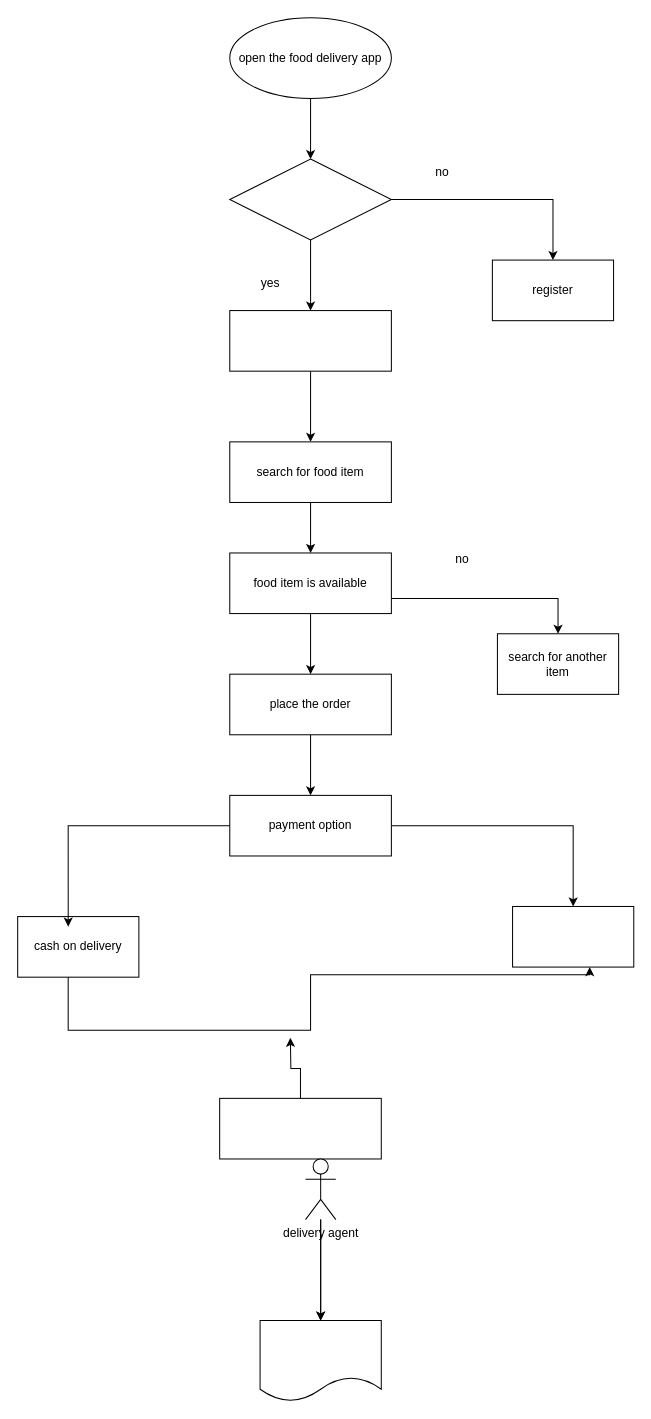
The diagram is 651 pixels wide and 1419 high, and some of its shapes have lost their labels. The shapes that lost their labels are listed below. From the top down, each one's centre as x and y in pixels, then its label:
At point (310, 199): "login if account is there otherwise register".
At point (310, 340): "login".
At point (573, 936): "online payment".
At point (300, 1128): "give the address".
At point (320, 1360): "feedback".
